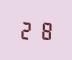eight: (35, 19, 50, 40)
two: (19, 19, 34, 39)
